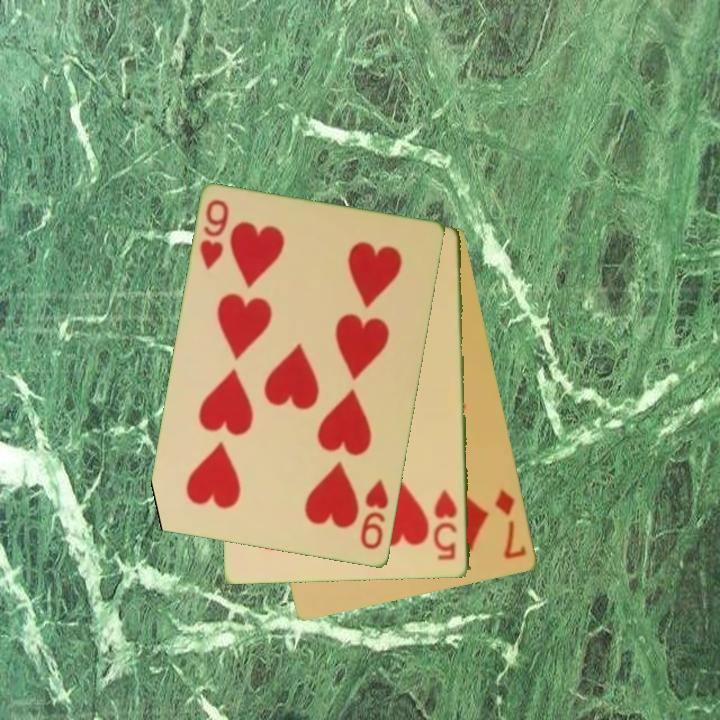5h: (431, 487, 461, 563)
7d: (492, 486, 530, 562)
9h: (196, 196, 232, 274), (357, 477, 392, 553)
